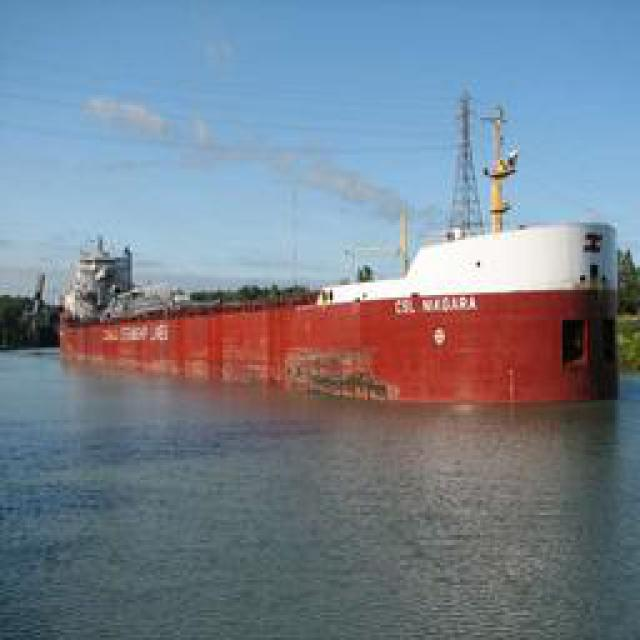Ship: (58, 225, 606, 408)
